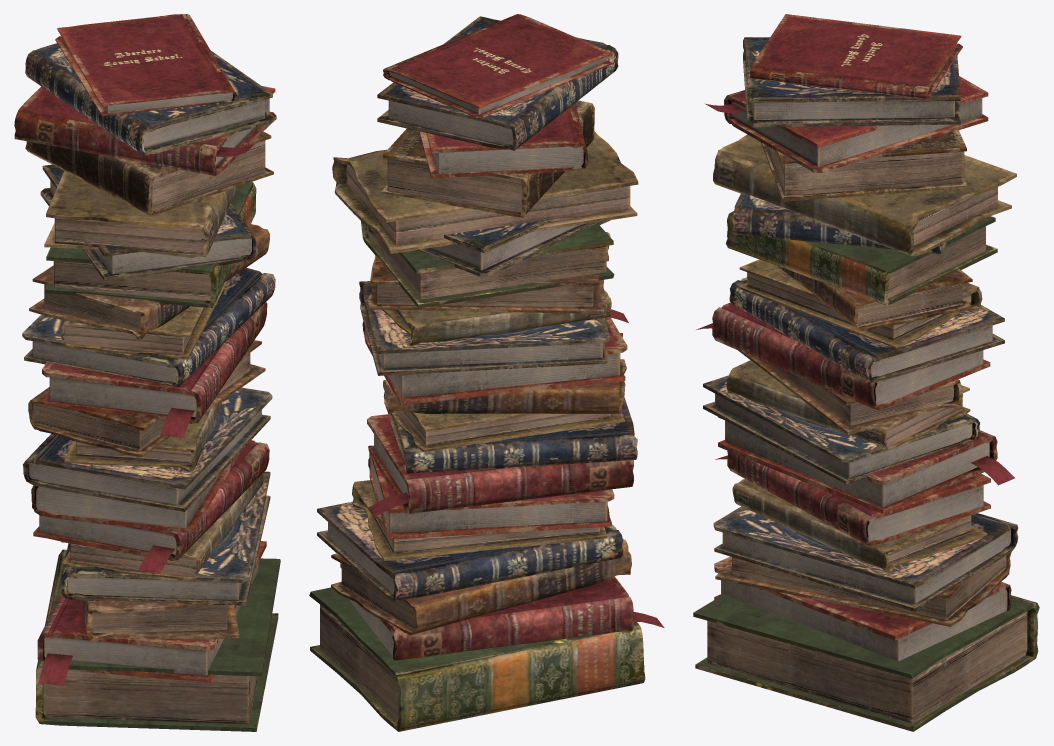
The model's file is BookPile_High.fbx.
3 views of the same model, side by side, from view 1: azimuth 30°, elevation 25°; view 2: azimuth 150°, elevation 25°; view 3: azimuth 270°, elevation 25° (orthographic). The views are drawn at different scales.
Parts seen in each view (by area): view 1: SM_BookPile_High_LOD0; view 2: SM_BookPile_High_LOD0; view 3: SM_BookPile_High_LOD0.
Part boxes in pixels (<box>): SM_BookPile_High_LOD0: <box>14,14,280,731</box>; SM_BookPile_High_LOD0: <box>309,14,664,731</box>; SM_BookPile_High_LOD0: <box>693,14,1039,731</box>.
Size of the model in its own units: 61.87 by 121 by 63.18.
